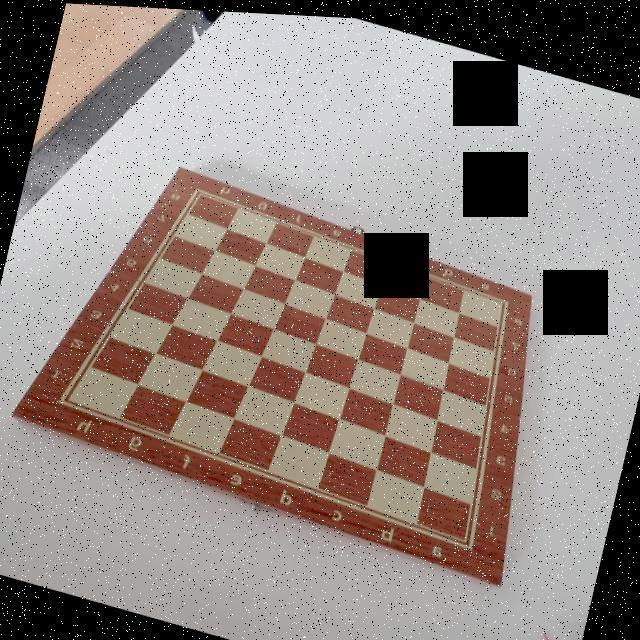chess-table-corners: (452, 526, 486, 552), (181, 176, 213, 202), (50, 389, 82, 413), (489, 285, 519, 310)
